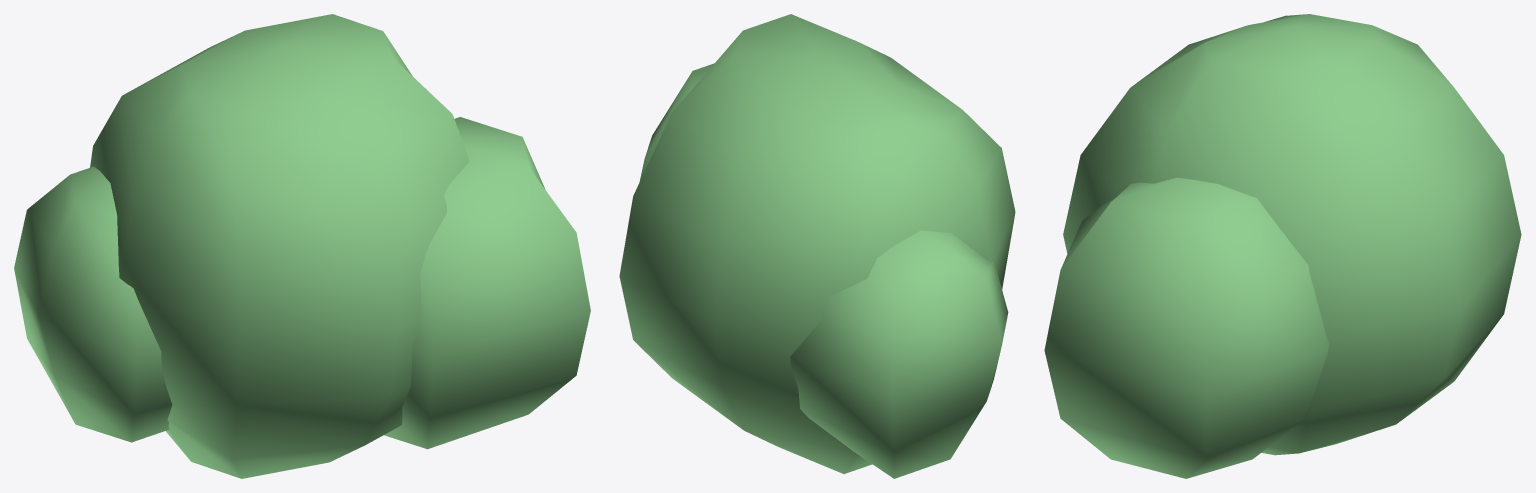
The model's file is bush_meadow.gltf.
3 views of the same model, side by side, from view 1: azimuth 30°, elevation 25°; view 2: azimuth 150°, elevation 25°; view 3: azimuth 270°, elevation 25° (orthographic). The views are drawn at different scales.
Visible parts, largest first — view 1: bush_meadow; view 2: bush_meadow; view 3: bush_meadow.
Part boxes in pixels (left/top/right/bottom): bush_meadow: left=14, top=14, right=590, bottom=478; bush_meadow: left=619, top=14, right=1015, bottom=478; bush_meadow: left=1044, top=14, right=1521, bottom=478.
Bounding box in the file's own units: 1.68 × 1.4 × 1.46.
